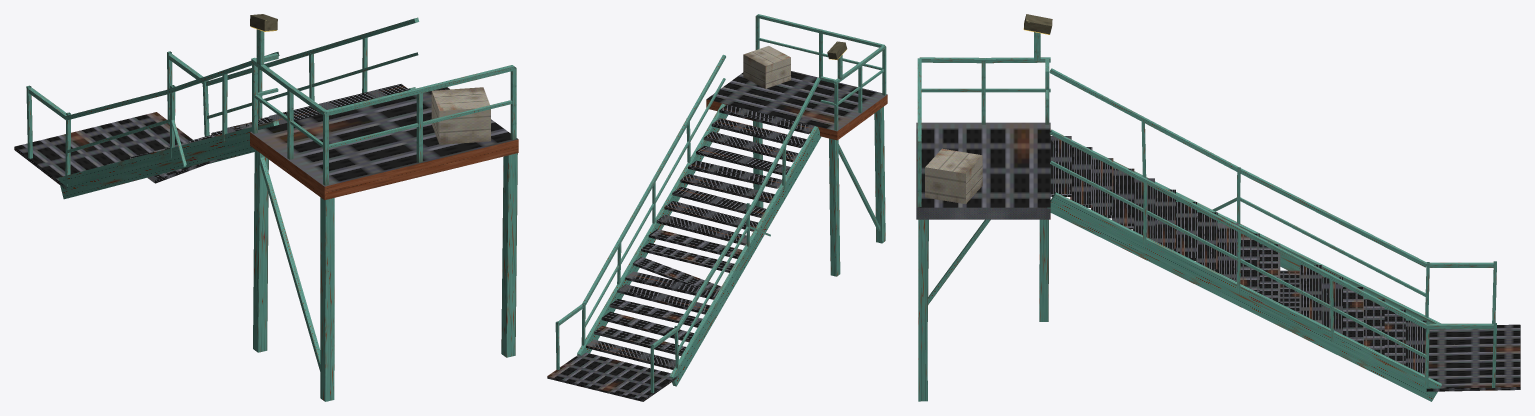
The model's file is Staircase.fbx.
The picture shows the model from 3 angles, left to right: view 1: azimuth 30°, elevation 25°; view 2: azimuth 150°, elevation 25°; view 3: azimuth 270°, elevation 25°; orthographic projection. The views are drawn at different scales.
Visible parts, largest first — view 1: Staircase; view 2: Staircase; view 3: Staircase.
Boxes of the visible parts, x1,y1,x2,y2 form: Staircase: [14, 14, 518, 401]; Staircase: [547, 14, 887, 401]; Staircase: [916, 14, 1520, 401].
Bounding box in the file's own units: 3 × 5.18 × 9.
